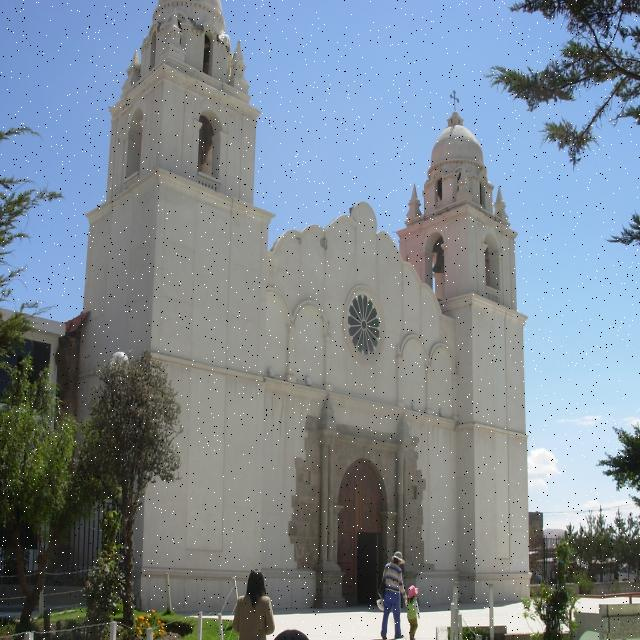CAMPANARIO: (401, 211, 539, 320)
CUPULA: (418, 104, 516, 193)
PORTADA CENTRAL: (298, 418, 419, 620)
SIMETRIA COLONIAL: (85, 169, 538, 604)
TORRES: (396, 138, 546, 609)
colonial-architecture-: (42, 0, 557, 602)
